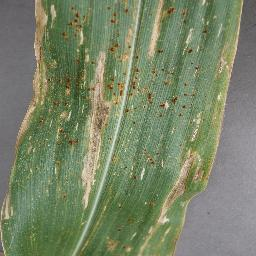Gray_Leaf_Spot: (142, 0, 245, 149), (59, 0, 142, 148), (14, 0, 59, 148), (149, 169, 213, 234), (102, 236, 182, 256), (79, 150, 104, 208), (111, 153, 138, 184), (179, 150, 222, 169), (0, 190, 14, 234), (141, 150, 168, 167), (52, 154, 67, 183), (60, 187, 68, 204), (116, 202, 126, 213), (127, 215, 137, 226), (115, 226, 125, 234)
